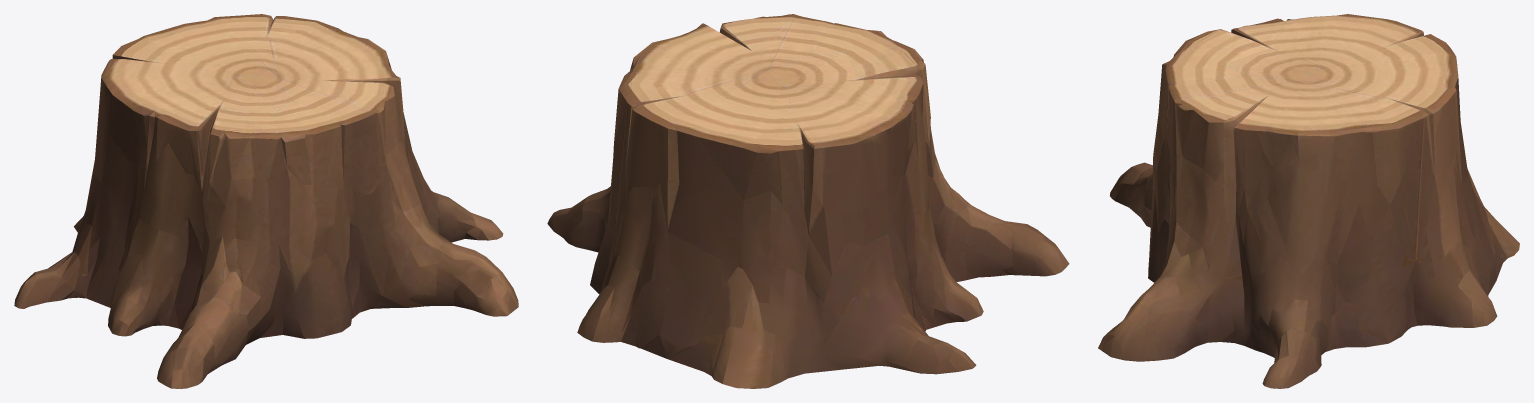
The model's file is nature-stump.glb.
3 views of the same model, side by side, from view 1: azimuth 30°, elevation 25°; view 2: azimuth 150°, elevation 25°; view 3: azimuth 270°, elevation 25° (orthographic). The views are drawn at different scales.
Visible parts, largest first — view 1: nature-stump-fit; view 2: nature-stump-fit; view 3: nature-stump-fit.
Boxes of the visible parts, x1=… form: nature-stump-fit: x1=14, y1=14, x2=518, y2=388; nature-stump-fit: x1=547, y1=14, x2=1069, y2=388; nature-stump-fit: x1=1098, y1=14, x2=1519, y2=388.
Size of the model in its own units: 1.55 by 0.6741 by 1.27.
Materials: 1 (1 with a texture image).
